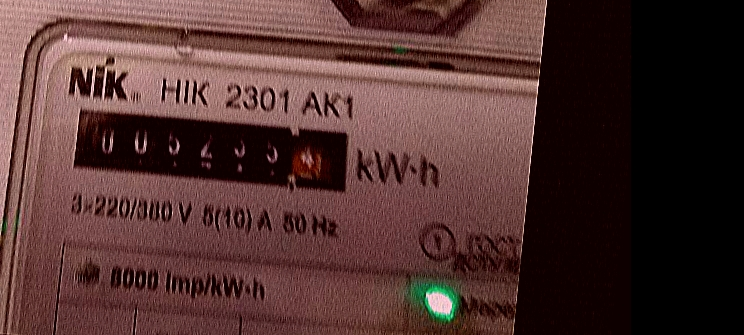0: (129, 122, 153, 156), (97, 122, 118, 155)
2: (195, 125, 220, 161)
3: (227, 127, 255, 162)
4: (296, 133, 321, 171)
5: (261, 129, 286, 167), (163, 123, 186, 158)
screen: (56, 90, 365, 207)
